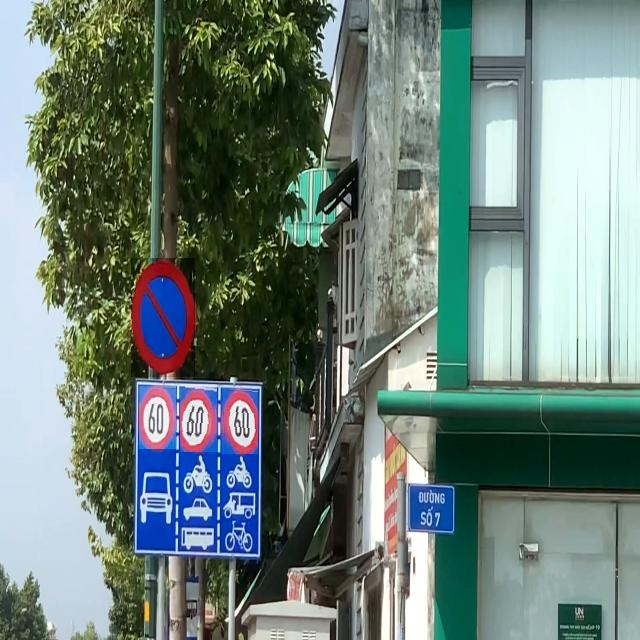bien_hieu_lenh: (132, 258, 196, 377), (180, 384, 217, 452), (221, 388, 258, 454), (139, 386, 176, 449)
